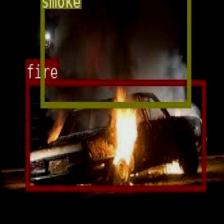fire: (25, 80, 205, 190)
smoke: (40, 0, 190, 106)
